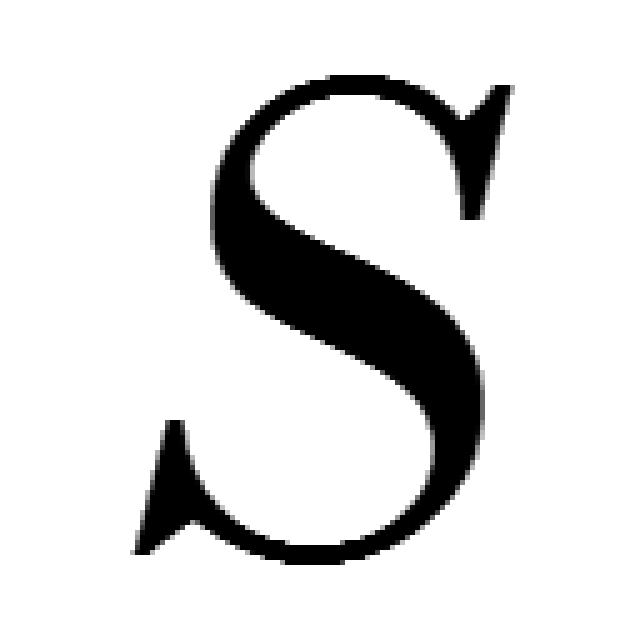S: (112, 65, 520, 567)
